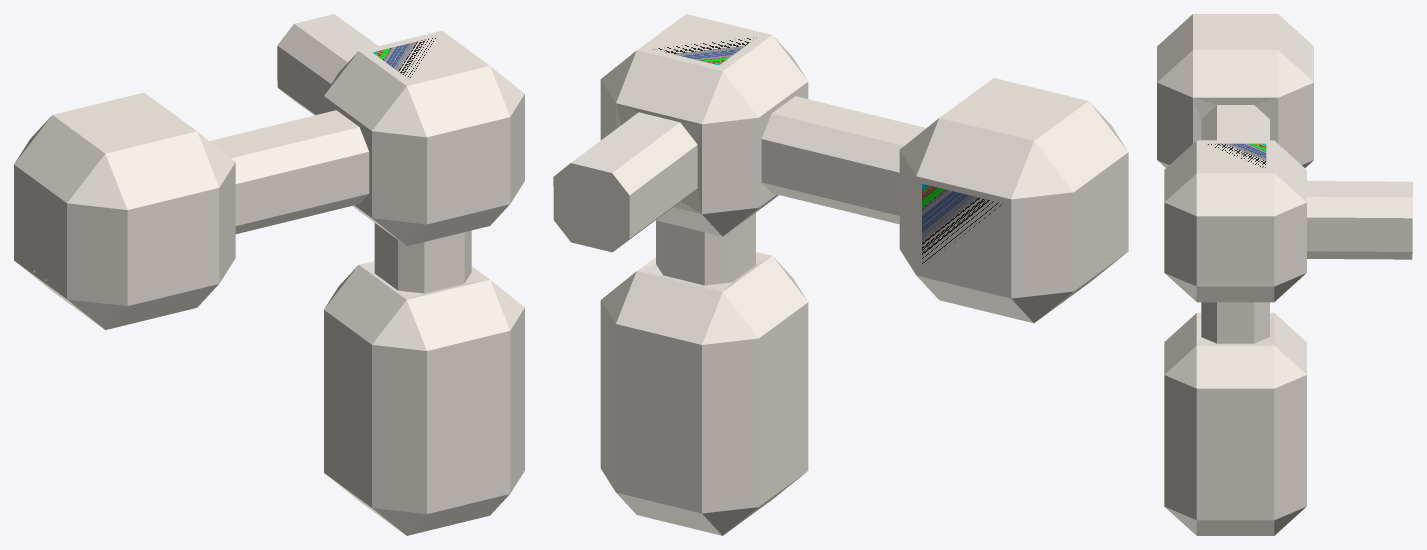
The model's file is Ship.fbx.
3 renders of one model, left to right at view 1: azimuth 30°, elevation 25°; view 2: azimuth 150°, elevation 25°; view 3: azimuth 270°, elevation 25°, orthographic. The views are drawn at different scales.
Parts seen in each view (by area): view 1: Cube.007, window; view 2: Cube.007, window; view 3: Cube.007, window.
Part boxes in pixels (x1,y1,x2,y2): Cube.007: [14, 14, 524, 535]; window: [372, 36, 501, 504]; Cube.007: [553, 14, 1128, 535]; window: [625, 20, 1005, 501]; Cube.007: [1157, 14, 1412, 535]; window: [1204, 143, 1266, 169].
Size of the model in its own units: 1692 by 1604 by 1006.
